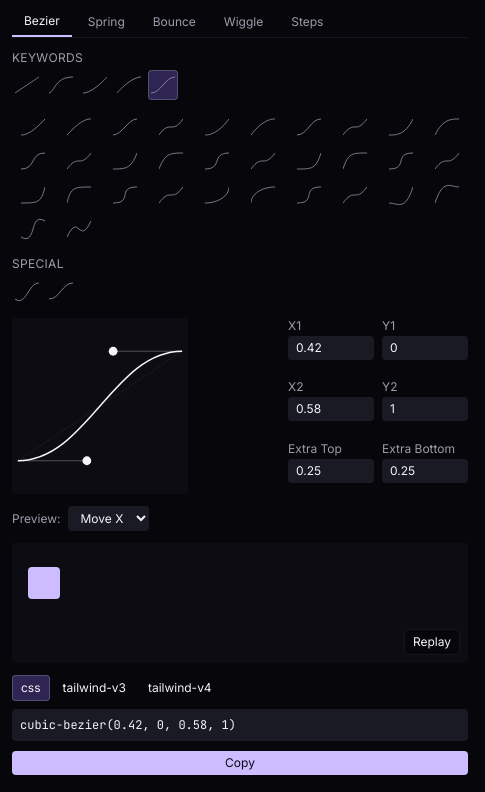
Test: OutputPanel via EasingPanel › clicking a format-toggle button updates the snippet
The image size is (485, 792).
Click the button "tailwind-v3" at (94, 688), box x1=54 y1=675 x2=135 y2=701
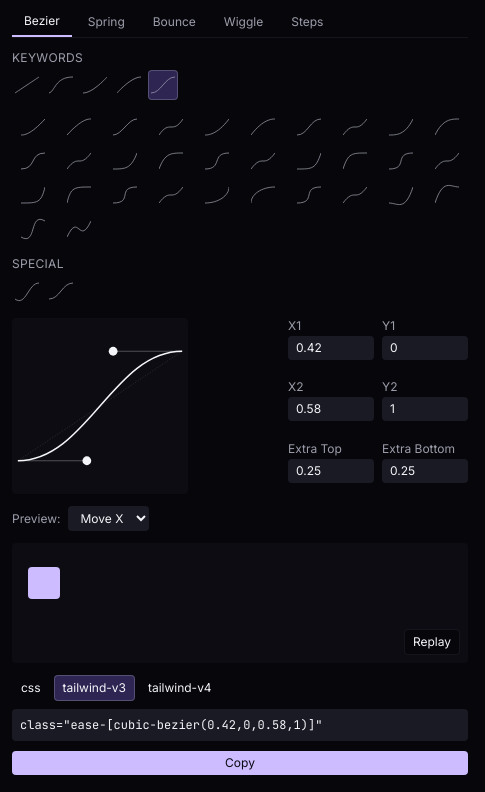
Result: the text "class=\"ease-[cubic-bezier(0.42,0,0.58,1)]\"" is shown at x1=12 y1=709 x2=468 y2=741
